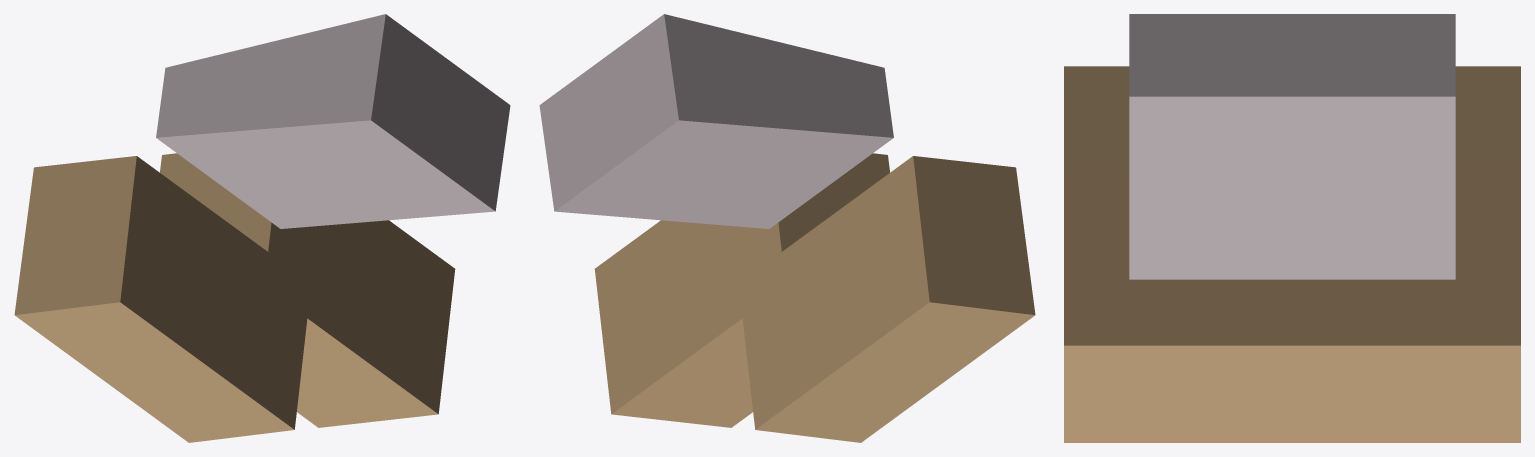
The picture shows the model from 3 angles, left to right: view 1: azimuth 30°, elevation 25°; view 2: azimuth 150°, elevation 25°; view 3: azimuth 270°, elevation 25°; orthographic projection. The views are drawn at different scales.
Visible parts, largest first — view 1: 0_0_3_2_0_0_1_0_1_3; view 2: 0_0_3_2_0_0_1_0_1_3; view 3: 0_0_3_2_0_0_1_0_1_3.
Part boxes in pixels (x1=…): 0_0_3_2_0_0_1_0_1_3: x1=14, y1=14, x2=510, y2=442; 0_0_3_2_0_0_1_0_1_3: x1=539, y1=14, x2=1035, y2=442; 0_0_3_2_0_0_1_0_1_3: x1=1064, y1=14, x2=1520, y2=442.
Bounding box in the file's own units: 24.07 × 17.75 × 21.
